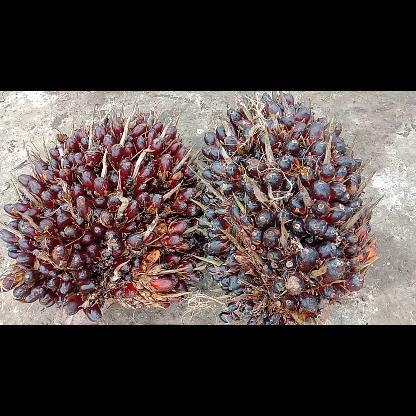Kurang masak: (198, 90, 376, 324)
TBS masak: (0, 101, 200, 317)
